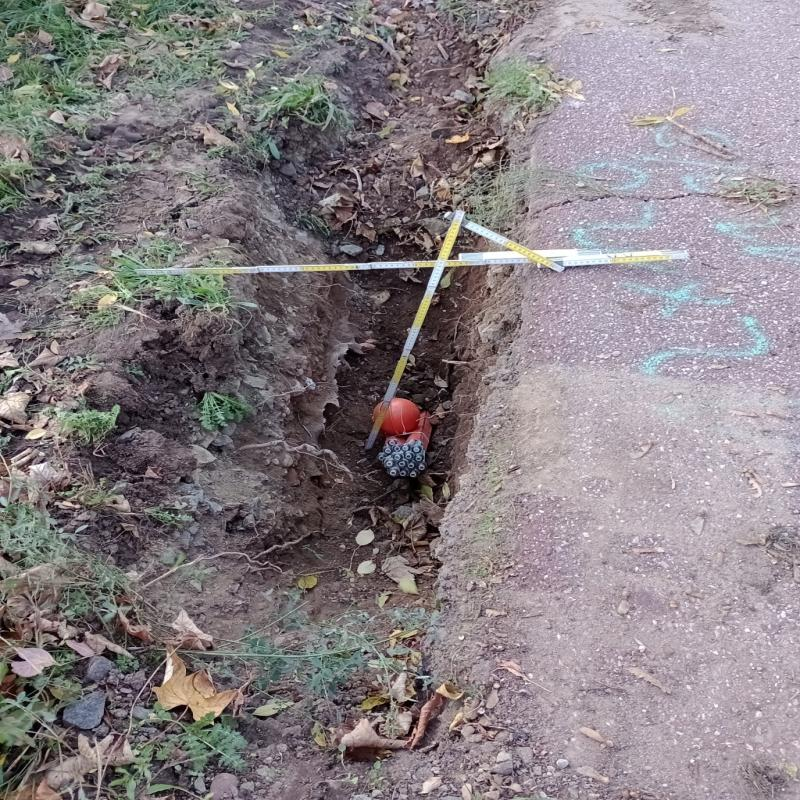Kugelmarker: (373, 398, 420, 433)
Orang-Speednetrohrchen: (378, 412, 431, 477)
